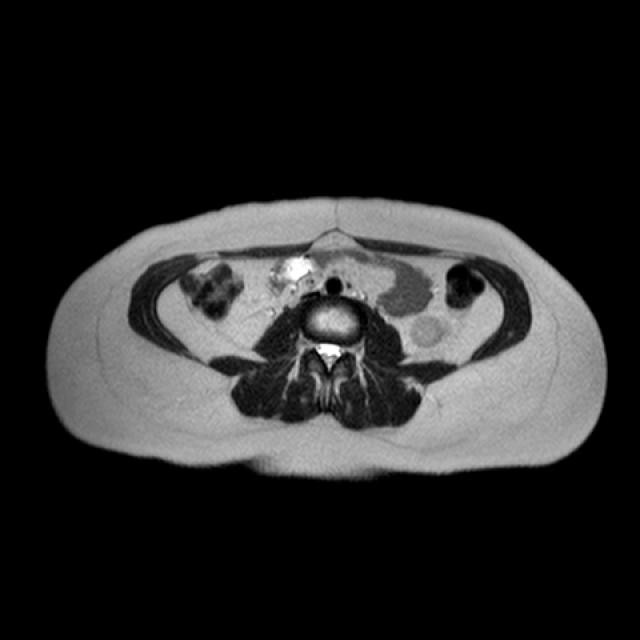sol: (410, 317, 447, 350)
